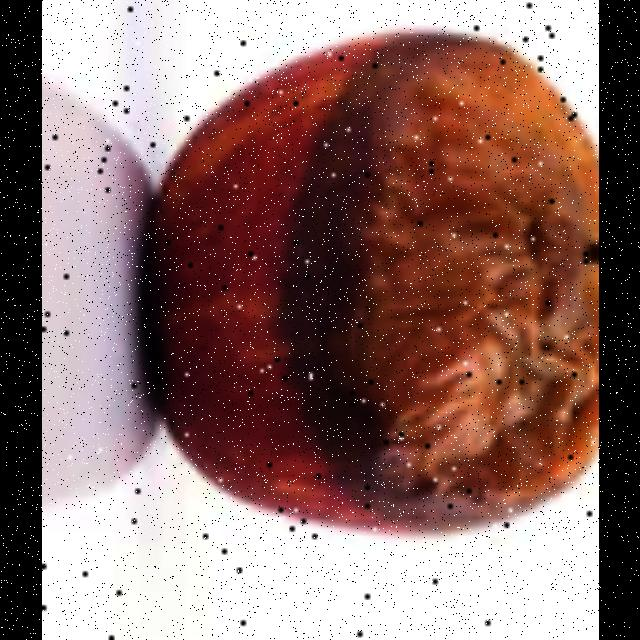Apel Tidak Segar: (136, 34, 598, 546)
